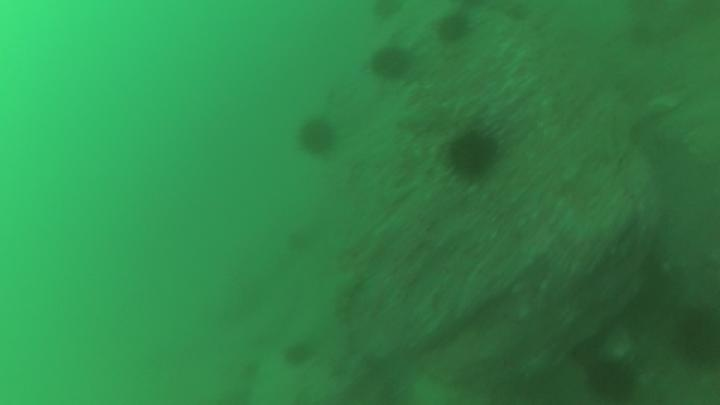echinus: (442, 123, 504, 183), (671, 303, 720, 370), (584, 355, 640, 403), (294, 114, 340, 159), (367, 42, 415, 83), (433, 11, 474, 46), (281, 338, 316, 369), (283, 226, 314, 254), (369, 0, 406, 23)
holothurian: (329, 271, 366, 330)
